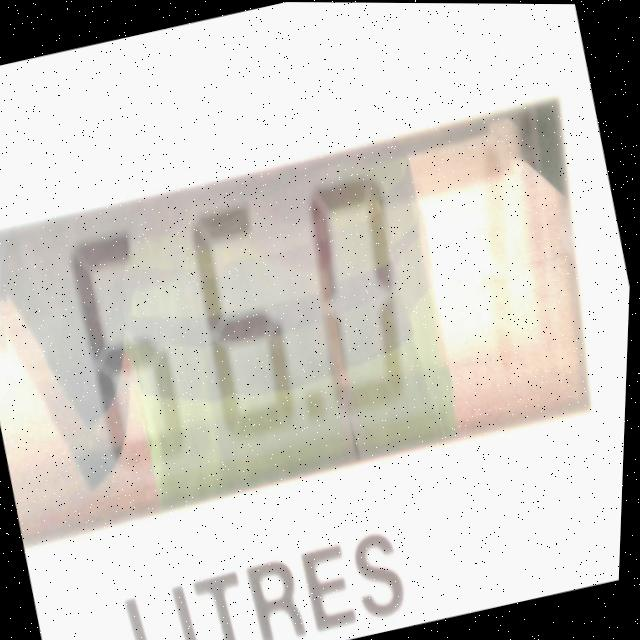.: (306, 392, 328, 417)
0: (287, 180, 438, 431)
1: (445, 133, 542, 368)
6: (58, 220, 202, 473), (176, 197, 310, 442)
